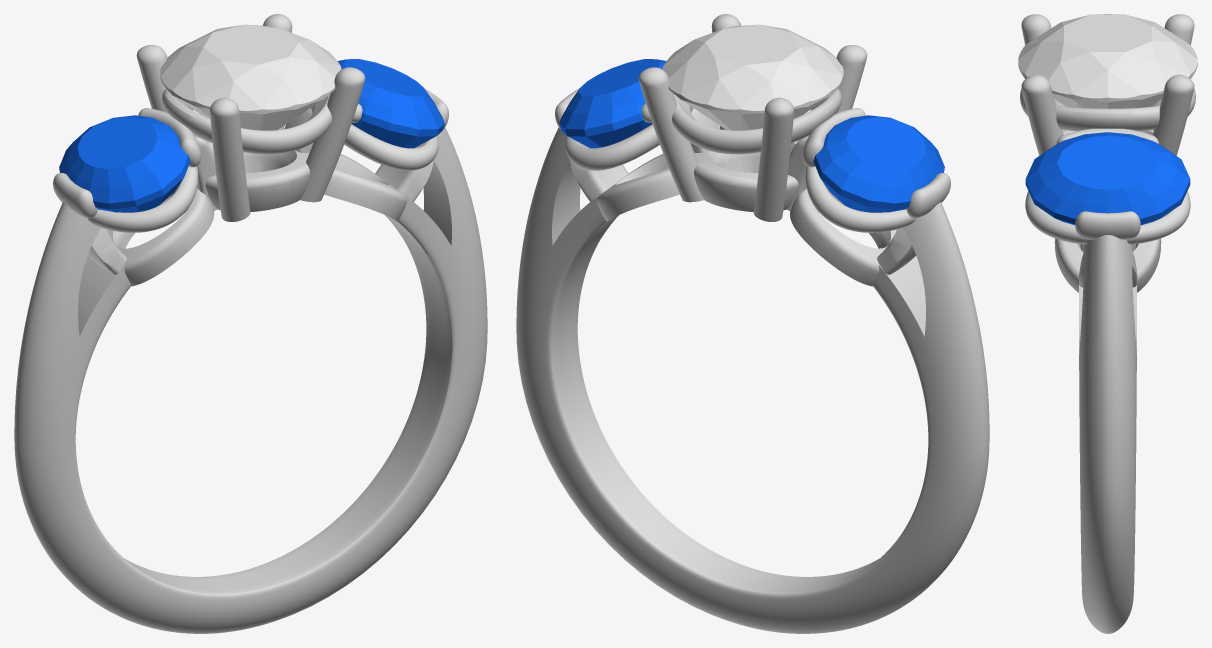
The model's file is RussellPTeng_blender.glb.
The picture shows the model from 3 angles, left to right: view 1: azimuth 30°, elevation 25°; view 2: azimuth 150°, elevation 25°; view 3: azimuth 270°, elevation 25°; orthographic projection.
Visible parts, largest first — view 1: Russell PT for 3d model, Russell dia for 3d model, Russell sapph for 3d model.001, Russell sapph for 3d model; view 2: Russell PT for 3d model, Russell dia for 3d model, Russell sapph for 3d model.001, Russell sapph for 3d model; view 3: Russell PT for 3d model, Russell dia for 3d model, Russell sapph for 3d model.
Boxes of the visible parts, bbox=[...] form: Russell PT for 3d model: bbox=[14, 14, 487, 633]; Russell dia for 3d model: bbox=[160, 24, 341, 130]; Russell sapph for 3d model.001: bbox=[59, 115, 190, 212]; Russell sapph for 3d model: bbox=[337, 59, 444, 148]; Russell PT for 3d model: bbox=[516, 14, 989, 633]; Russell dia for 3d model: bbox=[662, 24, 843, 130]; Russell sapph for 3d model.001: bbox=[813, 115, 944, 212]; Russell sapph for 3d model: bbox=[559, 59, 666, 148]; Russell PT for 3d model: bbox=[1020, 14, 1195, 633]; Russell dia for 3d model: bbox=[1018, 14, 1197, 108]; Russell sapph for 3d model: bbox=[1025, 132, 1190, 225].
Size of the model in its own units: 21.12 by 25.03 by 7.08.
